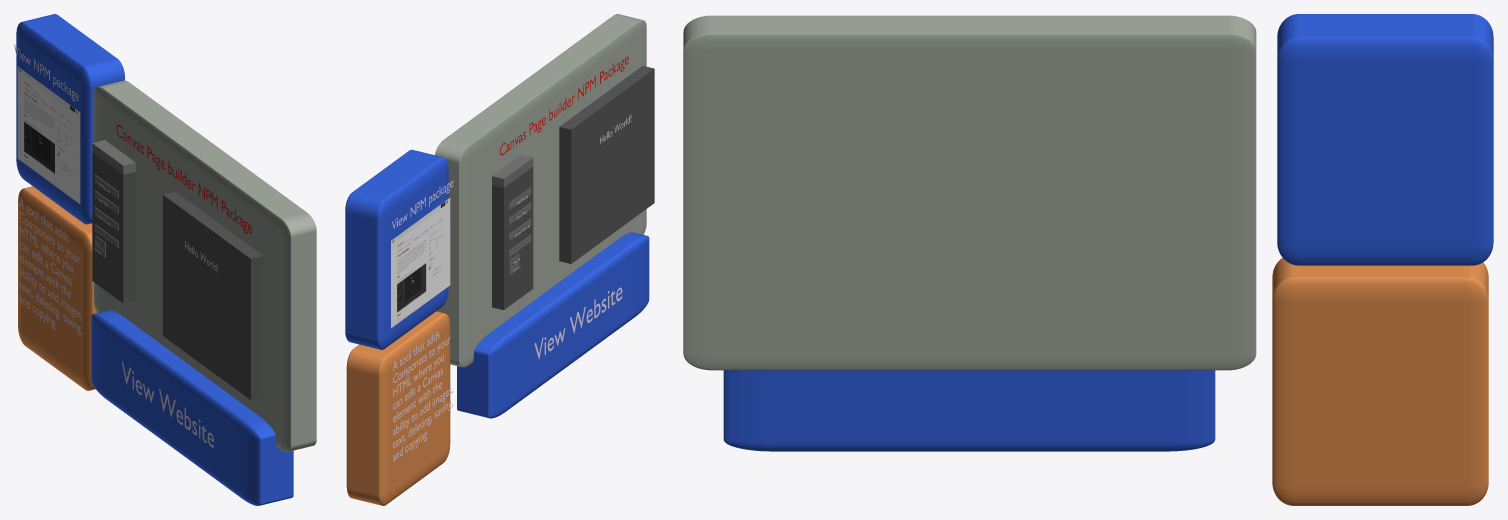
Rendered from npm.glb.
3 renders of one model, left to right at view 1: azimuth 30°, elevation 25°; view 2: azimuth 150°, elevation 25°; view 3: azimuth 270°, elevation 25°, orthographic. The views are drawn at different scales.
Visible parts, largest first — view 1: Cube.009, Cube.021, Cube.010, Cube.023, Cube.022, npmpack, Cube.011, Text.021, Text.018, Cube.012, Text.019, Text.020; view 2: Cube.009, Cube.023, Cube.021, Cube.010, Cube.022, npmpack, Cube.011, Text.021, Text.018, Cube.012, Text.019; view 3: Cube.009, Cube.022, Cube.023, Cube.021.
Part boxes in pixels (x1=…): Cube.009: x1=94, y1=80, x2=316, y2=452; Cube.021: x1=91, y1=310, x2=293, y2=505; Cube.010: x1=163, y1=191, x2=263, y2=399; Cube.023: x1=18, y1=186, x2=97, y2=390; Cube.022: x1=16, y1=14, x2=124, y2=224; npmpack: x1=17, y1=66, x2=80, y2=203; Cube.011: x1=92, y1=152, x2=135, y2=303; Text.021: x1=19, y1=199, x2=82, y2=335; Text.018: x1=116, y1=124, x2=251, y2=233; Cube.012: x1=92, y1=140, x2=135, y2=174; Text.019: x1=121, y1=361, x2=213, y2=447; Text.020: x1=14, y1=44, x2=78, y2=101; Cube.009: x1=435, y1=14, x2=646, y2=367; Cube.023: x1=346, y1=311, x2=450, y2=505; Cube.021: x1=457, y1=232, x2=649, y2=418; Cube.010: x1=559, y1=66, x2=654, y2=263; Cube.022: x1=345, y1=149, x2=448, y2=349; npmpack: x1=391, y1=198, x2=450, y2=328; Cube.011: x1=492, y1=167, x2=533, y2=309; Text.021: x1=393, y1=331, x2=452, y2=461; Text.018: x1=500, y1=56, x2=628, y2=155; Cube.012: x1=492, y1=154, x2=533, y2=187; Text.019: x1=534, y1=287, x2=622, y2=359; Cube.009: x1=683, y1=15, x2=1256, y2=370; Cube.022: x1=1277, y1=14, x2=1493, y2=265; Cube.023: x1=1272, y1=258, x2=1488, y2=505; Cube.021: x1=723, y1=370, x2=1215, y2=451.
Bounding box in the file's own units: 0.359 × 1.58 × 2.48.
25 materials, 1 textured.
